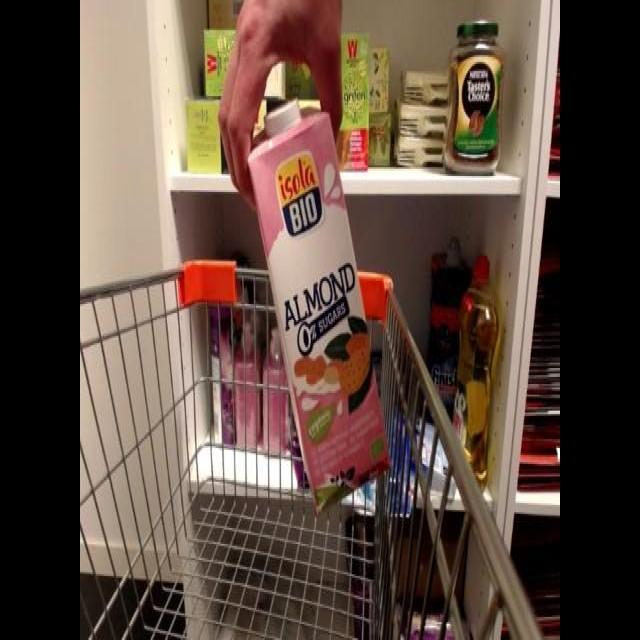Almond Milk: (244, 85, 394, 519)
